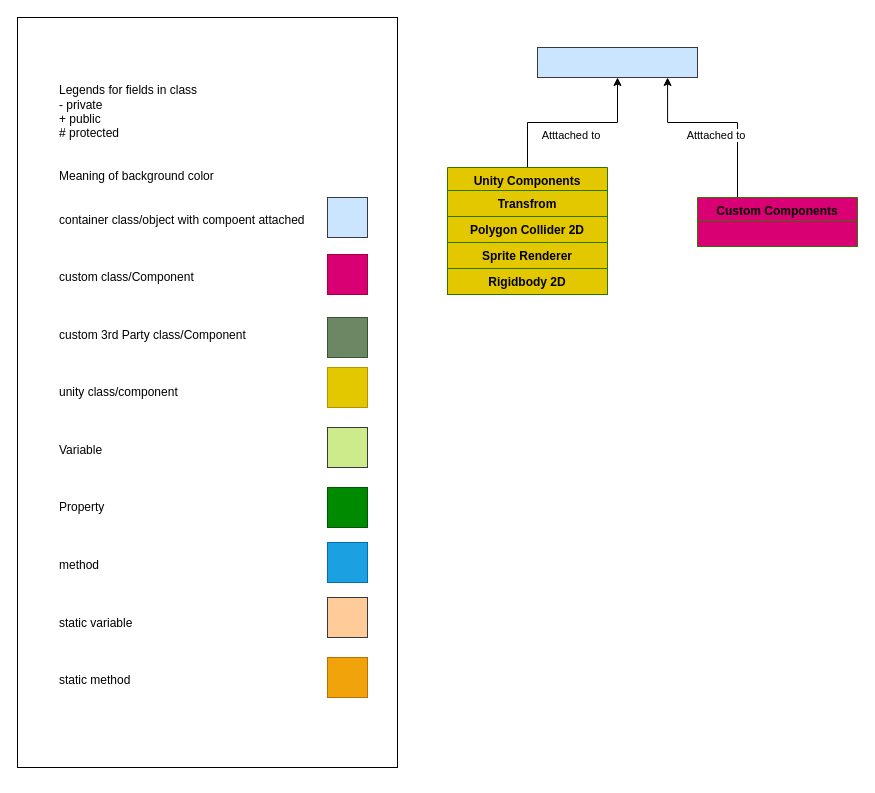
Image size: 875x793. Some labels were removed from this diagram. Each missing label, with the centre of its shape:
Position Renderer Sorter: (777,233)
Tree: (617,62)
